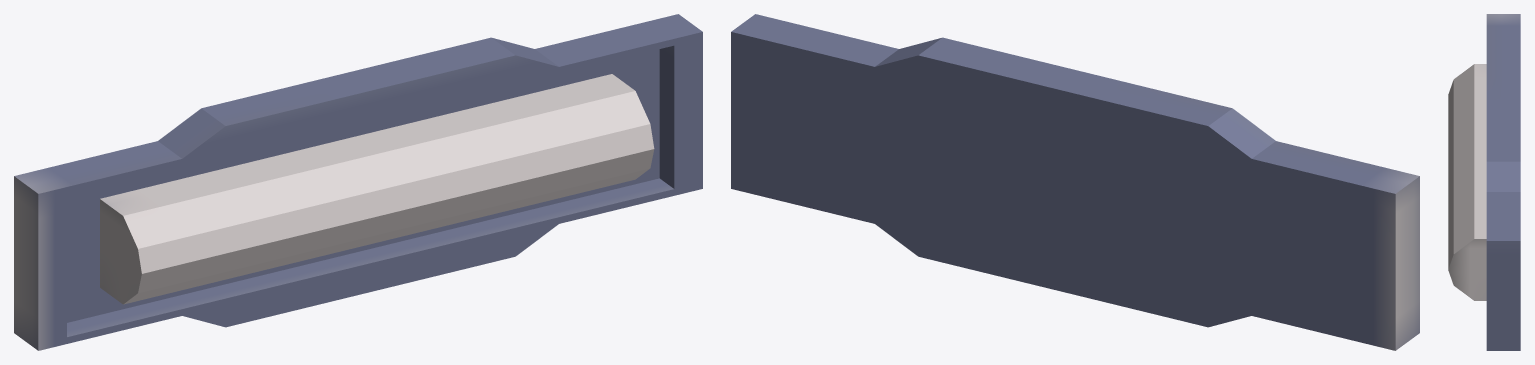
Rendered from Lampa.fbx.
3 views of the same model, side by side, from view 1: azimuth 30°, elevation 25°; view 2: azimuth 150°, elevation 25°; view 3: azimuth 270°, elevation 25° (orthographic). The views are drawn at different scales.
Visible parts, largest first — view 1: Plane.001; view 2: Plane.001; view 3: Plane.001.
Boxes of the visible parts, left/top/right/bottom form: Plane.001: left=14, top=14, right=702, bottom=350; Plane.001: left=731, top=14, right=1419, bottom=350; Plane.001: left=1448, top=14, right=1520, bottom=350.
Bounding box in the file's own units: 15.2 × 4.4 × 2.05.
